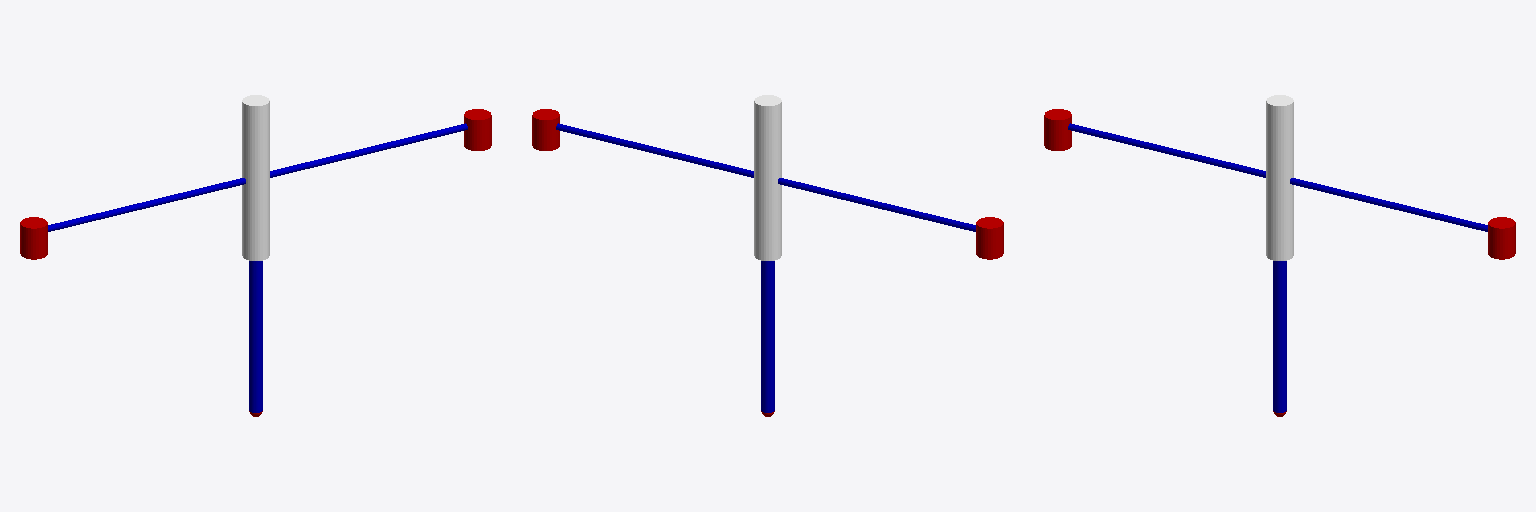
robot.urdf — 1dhopper:
<?xml version="1.0"?>
<robot name="1dhopper">
   <material name="blue">
    <color rgba="0 0 0.8 1"/>
  </material>

  <material name="red">
   <color rgba="0.8 0 0 1"/>
 </material>

  <material name="white">
    <color rgba="1 1 1 0.5"/>
  </material>

 <link name="balance_beam">
    <visual>
     <material name="blue"/>
      <geometry>
        <cylinder length="1.5" radius="0.01"/>
      </geometry>
      <origin rpy="0 1.57075 0" xyz="0 0 0"/>
    </visual>
    <collision>
       <geometry>
         <cylinder length="1.5" radius="0.01"/>
       </geometry>
       <origin rpy="0 1.57075 0" xyz="0 0 0"/>
     </collision>
     <inertial>
     <mass value="0.05"/>
     <inertia ixx="0.4" ixy="0.0" ixz="0.0" iyy="0.4" iyz="0.0" izz="0.2"/>
     <origin rpy="0 1.57075 0" xyz="0 0 0"/>
   </inertial>
  </link>

  <link name="base_link">
    <visual>
      <geometry>
        <cylinder length="0.5" radius="0.04"/>
      </geometry>
      <material name="white"/>
    </visual>
    <collision>
       <geometry>
         <cylinder length="0.5" radius="0.04"/>
       </geometry>
     </collision>
     <inertial>
     <mass value="0.15"/>
     <inertia ixx="0.4" ixy="0.0" ixz="0.0" iyy="0.4" iyz="0.0" izz="0.2"/>
   </inertial>

  </link>

  <joint name="base_to_beam" type="revolute">
      <axis xyz="0 1 0"/>
      <limit effort="1000.0" lower="-1.57079632679" upper="1.57079632679" velocity="100"/>
       <dynamics damping="0.0" friction="0.0"/>
      <!-- <limit effort="1000.0" lower="-1.2" upper="1.2" velocity="10"/> -->
      <parent link="balance_beam"/>
      <child link="base_link"/>
      <origin xyz="0 0 0"/>

    </joint>

    <link name="leg">
        <visual>
          <geometry>
            <cylinder length="0.5" radius="0.02"/>
          </geometry>
          <material name="blue"/>
          <origin rpy="0 0 0" xyz="0 0 0"/>
        </visual>
        <collision>
           <geometry>
             <cylinder length="0.5" radius="0.02"/>
           </geometry>
           <origin rpy="0 0 0" xyz="0 0 0"/>
         </collision>
         <inertial>
         <mass value="0.45"/>
         <inertia ixx="0.4" ixy="0.0" ixz="0.0" iyy="0.4" iyz="0.0" izz="0.2"/>
         <origin rpy="0 0 0" xyz="0 0 -0.4"/>
       </inertial>
      </link>

    <joint name="foot_joint" type="prismatic">
        <axis xyz="0 0 1"/>
        <limit effort="1000.0" lower="0" upper="0.5" velocity="1000"/>
        <!-- <dynamics damping="0" friction="0"/> -->
        <parent link="base_link"/>
        <child link="leg"/>
        <origin xyz="0 0 -0.5"/>

      </joint>

      <link name="toe">
        <visual>
          <geometry>
            <sphere radius="0.02"/>
          </geometry>
          <material name="red"/>
        </visual>
        <collision>
          <geometry>
            <sphere radius="0.02"/>
          </geometry>
         </collision>
         <inertial>
         <mass value="0.01"/>
         <inertia ixx="1.0" ixy="0.0" ixz="0.0" iyy="1.0" iyz="0.0" izz="1.0"/>
       </inertial>

      </link>

      <joint name="leg_toe" type="fixed">
          <parent link="leg"/>
          <child link="toe"/>
          <origin xyz="0 0 -0.25"/>
          <!-- <dynamics damping="0.5" friction="1.0"/> -->
        </joint>

<link name="left_weight">
    <visual>
      <geometry>
        <cylinder length="0.1" radius="0.04"/>
      </geometry>
      <material name="red"/>
      <origin rpy="0 0 1.57075" xyz="0 0 0"/>
    </visual>
    <collision>
       <geometry>
         <cylinder length="0.1" radius="0.04"/>
       </geometry>
       <origin rpy="0 0 1.57075" xyz="0 0 0"/>
     </collision>
     <inertial>
     <mass value="4"/>
     <origin rpy="0 0 1.57075" xyz="0 0 0"/>
     <inertia ixx="0.4" ixy="0.0" ixz="0.0" iyy="0.4" iyz="0.0" izz="0.2"/>
   </inertial>
  </link>

<link name="right_weight">
    <visual>
      <geometry>
        <cylinder length="0.1" radius="0.04"/>
      </geometry>
      <material name="red"/>
      <origin rpy="0 0 1.57075" xyz="0 0 0"/>
    </visual>
    <collision>
       <geometry>
         <cylinder length="0.1" radius="0.04"/>
       </geometry>
       <origin rpy="0 0 1.57075" xyz="0 0 0"/>
     </collision>
     <inertial>
     <mass value="4"/>
     <origin rpy="0 0 1.57075" xyz="0 0 0"/>
     <inertia ixx="0.4" ixy="0.0" ixz="0.0" iyy="0.4" iyz="0.0" izz="0.2"/>
   </inertial>
  </link>

<joint name="leftWeight_beam" type="fixed">
          <parent link="balance_beam"/>
          <child link="left_weight"/>
          <origin xyz="0.75 0 -0.02"/>
        </joint>

<joint name="rightWeight_beam" type="fixed">
          <parent link="balance_beam"/>
          <child link="right_weight"/>
          <origin xyz="-0.75 0 -0.02"/>
        </joint>

</robot>

--- Facts derived from the render (not from the file) ---
3 views of the same robot in one strip: view 1: azimuth 30°, elevation 25°; view 2: azimuth 150°, elevation 25°; view 3: azimuth 330°, elevation 25° (orthographic).
Robot: 1dhopper — 6 links, 5 joints (1 revolute, 1 prismatic, 3 fixed); root link balance_beam; default pose: every joint at zero.
Visible links, largest first — view 1: base_link, balance_beam, leg, right_weight, left_weight; view 2: base_link, balance_beam, leg, right_weight, left_weight; view 3: base_link, balance_beam, leg, left_weight, right_weight.
Boxes of the visible links, <box> form: base_link: <box>242,95,269,260</box>; balance_beam: <box>48,123,467,231</box>; leg: <box>249,261,262,412</box>; right_weight: <box>20,217,47,259</box>; left_weight: <box>464,109,491,150</box>; base_link: <box>754,95,781,260</box>; balance_beam: <box>556,123,975,231</box>; leg: <box>761,261,774,412</box>; right_weight: <box>976,217,1003,259</box>; left_weight: <box>532,109,559,150</box>; base_link: <box>1266,95,1293,260</box>; balance_beam: <box>1068,123,1487,231</box>; leg: <box>1273,261,1286,412</box>; left_weight: <box>1488,217,1515,259</box>; right_weight: <box>1044,109,1071,150</box>.
Bounding box of the posed robot: 1.58 × 0.08 × 1.02 m (x, y, z).
Geometry: primitives only (box / cylinder / sphere), no mesh files.